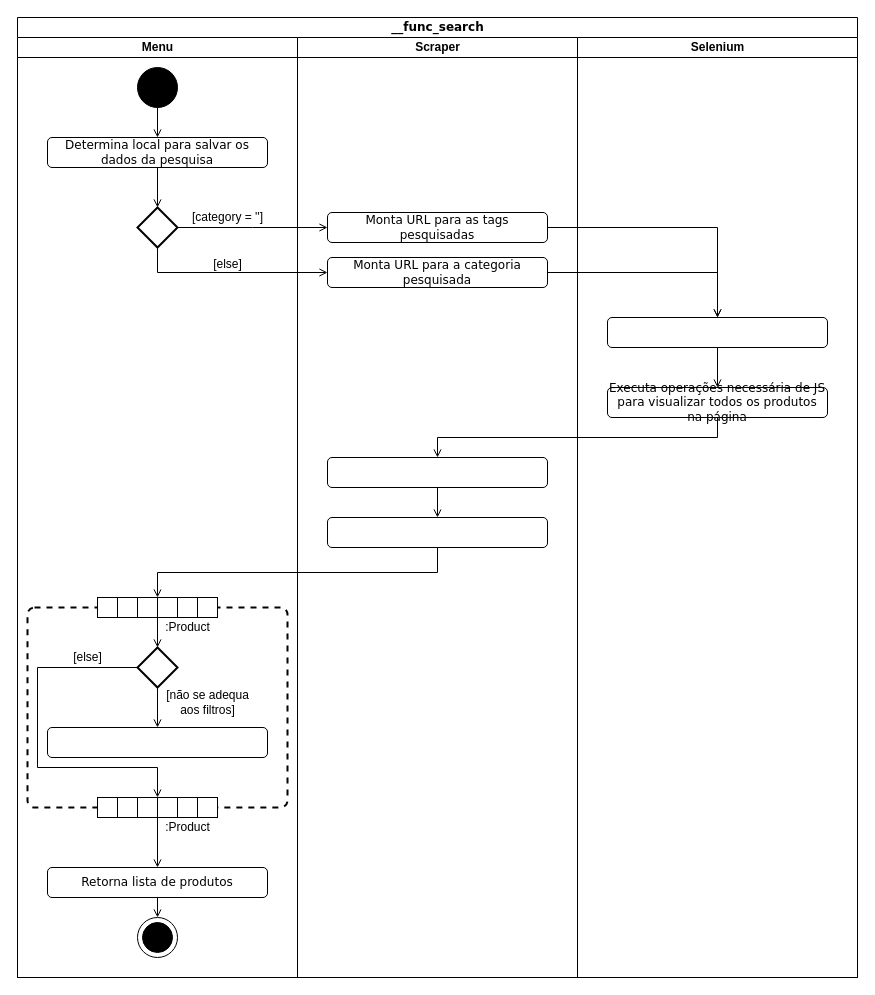
Some shapes in this 875 by 995 pixel diagram are drawn without their labels. The centre of each missing label's shape, as x and y in pixels:
"Abre sessão no navegador com a URL" goes at (x=717, y=332).
"Localiza produtos na página e monta lista de produtos" goes at (x=437, y=532).
"Remove produto da lista" goes at (x=157, y=742).
"Salva dados da página no local determinado pelo menu" goes at (x=437, y=472).
